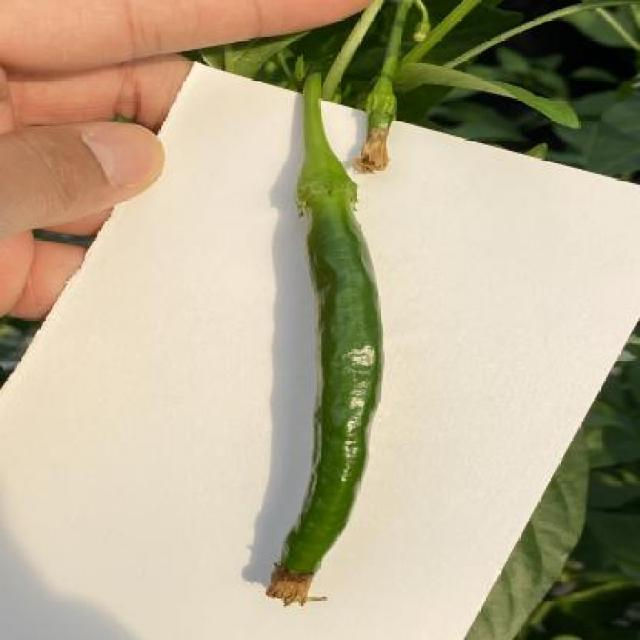green chilli: (277, 193, 385, 562)
